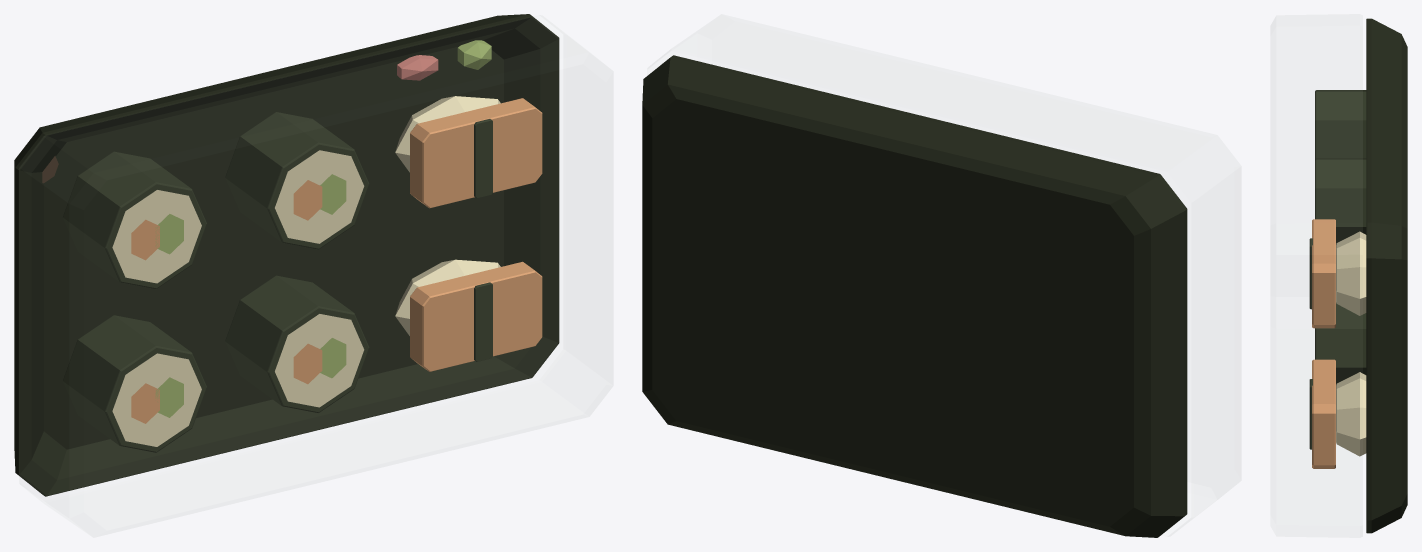
Rendered from sushi.glb.
3 renders of one model, left to right at view 1: azimuth 30°, elevation 25°; view 2: azimuth 150°, elevation 25°; view 3: azimuth 270°, elevation 25°, orthographic. The views are drawn at different scales.
Visible parts, largest first — view 1: sushi; view 2: sushi; view 3: sushi.
Part boxes in pixels (x1=…): sushi: x1=14, y1=14, x2=559, y2=496; sushi: x1=642, y1=55, x2=1187, y2=537; sushi: x1=1309, y1=18, x2=1407, y2=533.
Bounding box in the file's own units: 0.1819 × 0.1166 × 0.046.
